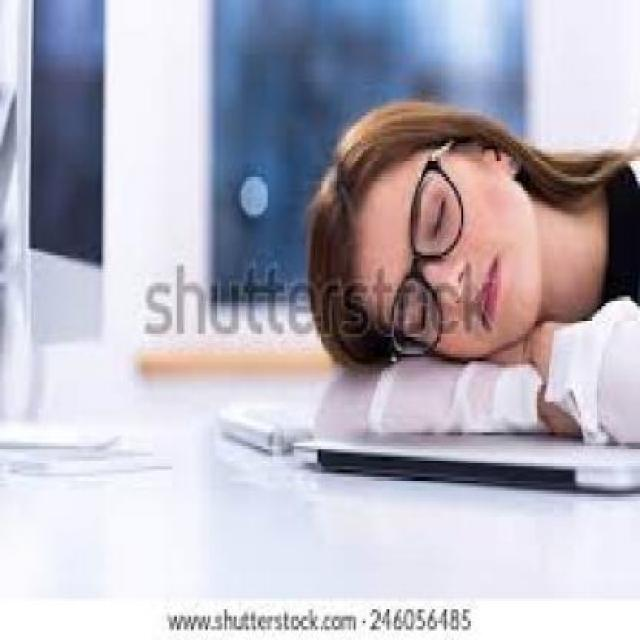glasses: (385, 145, 466, 372)
